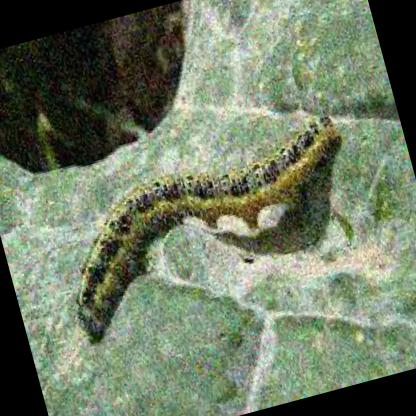pieris: (72, 115, 334, 329)
